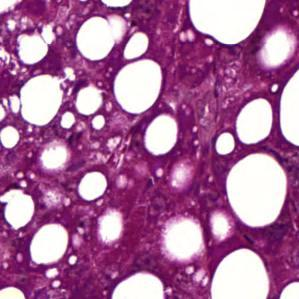steatosis: (111, 60, 164, 116), (19, 74, 64, 126), (235, 97, 274, 144), (30, 219, 68, 266), (73, 168, 111, 201)
